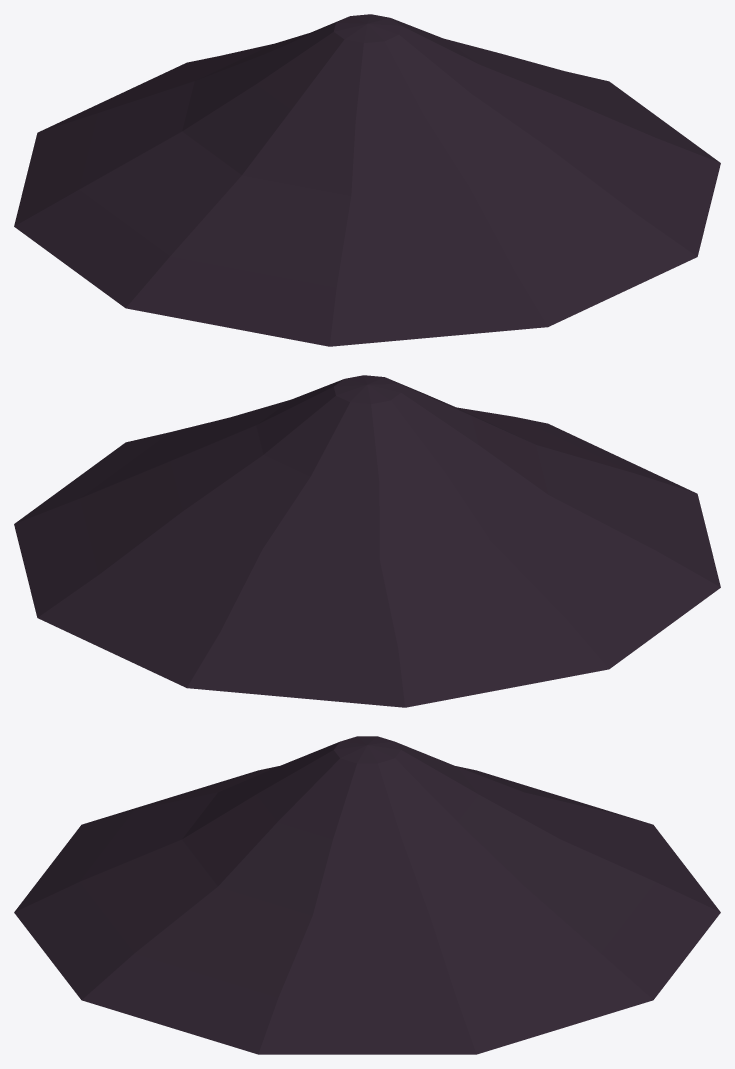
File: GarbageMound01.fbx
3 views of the same model, one above another, from view 1: azimuth 30°, elevation 25°; view 2: azimuth 150°, elevation 25°; view 3: azimuth 270°, elevation 25° (orthographic). The views are drawn at different scales.
Parts seen in each view (by area): view 1: Sphere; view 2: Sphere; view 3: Sphere.
Boxes of the visible parts, x1=… form: Sphere: x1=14, y1=14, x2=720, y2=346; Sphere: x1=14, y1=375, x2=720, y2=707; Sphere: x1=14, y1=736, x2=720, y2=1054.
Size of the model in its own units: 615 by 169 by 647.
